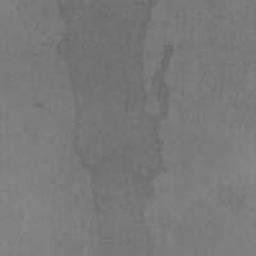Water spot: (55, 0, 175, 256), (32, 102, 47, 110)
